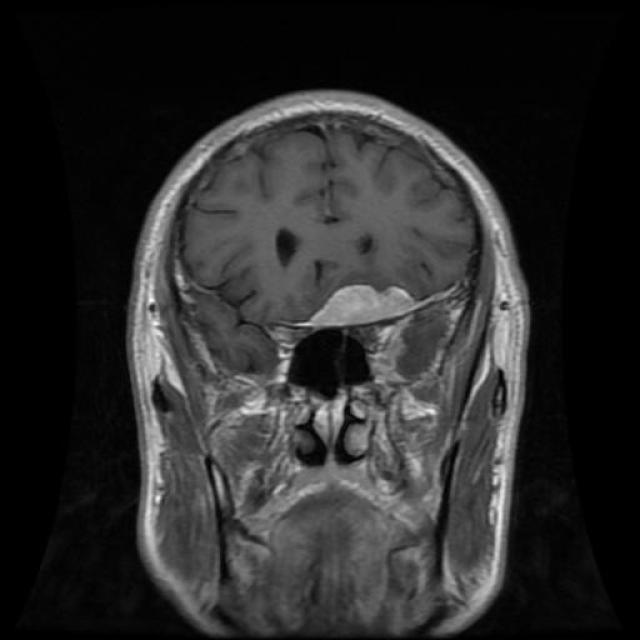meningioma: (311, 286, 415, 322)
